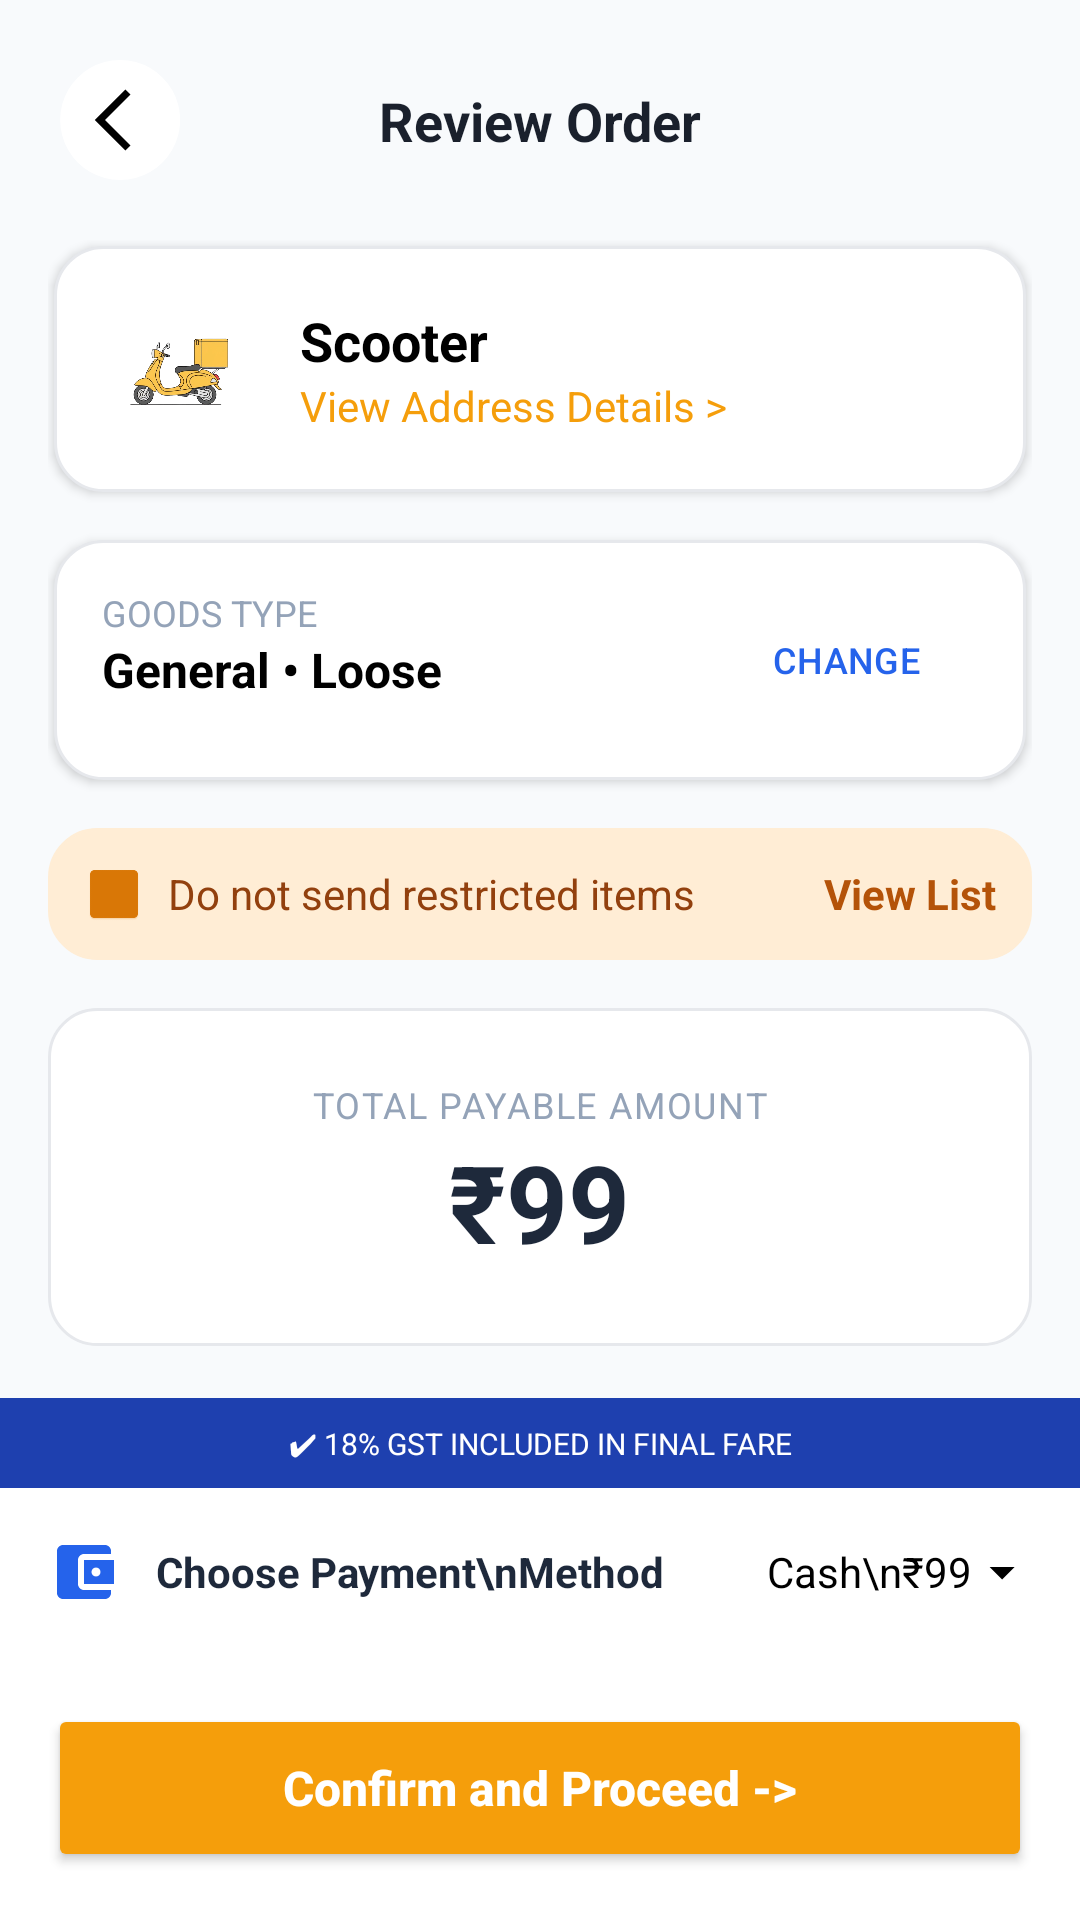

Locate icon controls on the screen. Image size 1080x1920, boxes as region(x1, y1, x2, y2).
arrow back: region(95, 89, 131, 151)
arrow down: region(990, 1567, 1015, 1580)
illustration two wheeler: region(130, 339, 228, 405)
wallet: region(57, 1545, 114, 1599)
